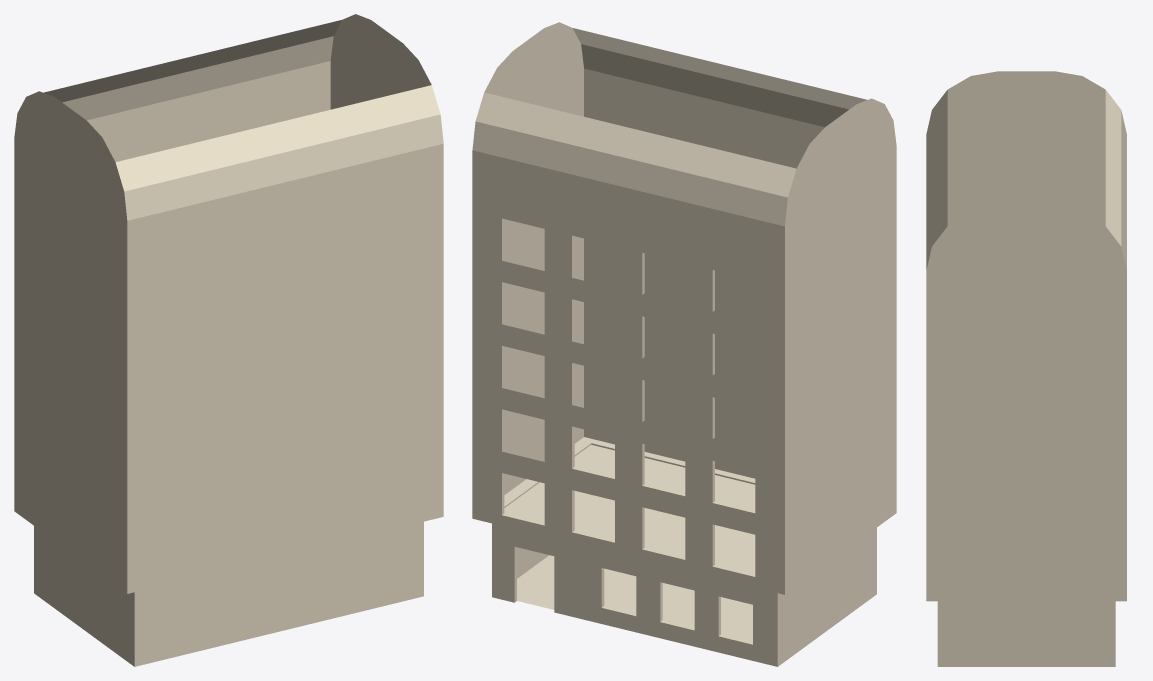
File: Bld_C_high_L3_C.fbx
3 renders of one model, left to right at view 1: azimuth 30°, elevation 25°; view 2: azimuth 150°, elevation 25°; view 3: azimuth 270°, elevation 25°, orthographic. The views are drawn at different scales.
Visible parts, largest first — view 1: Bld_C_high_L3_C_LOD0; view 2: Bld_C_high_L3_C_LOD0; view 3: Bld_C_high_L3_C_LOD0.
Boxes of the visible parts, box(x1,y1,x2,y2) form: Bld_C_high_L3_C_LOD0: box(14, 14, 443, 666); Bld_C_high_L3_C_LOD0: box(472, 22, 896, 666); Bld_C_high_L3_C_LOD0: box(926, 71, 1126, 666).
Size of what is drawn, in the model's own units: 2114 by 3877 by 1383.
1 material, 1 textured.
